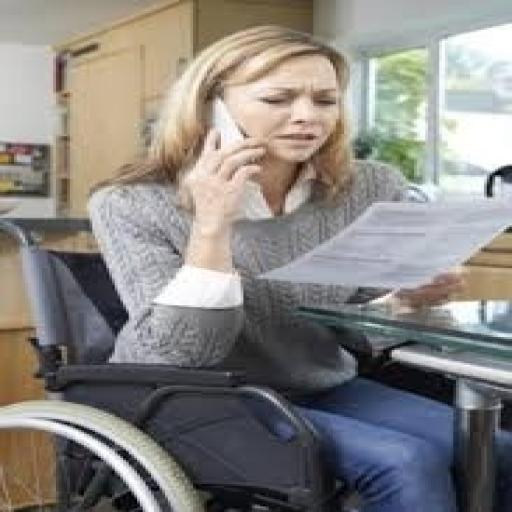calling: (84, 22, 509, 510)
